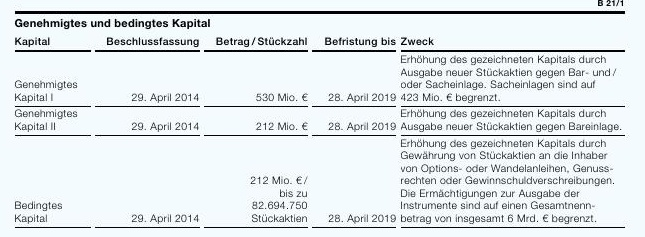table: (0, 0, 645, 237)
